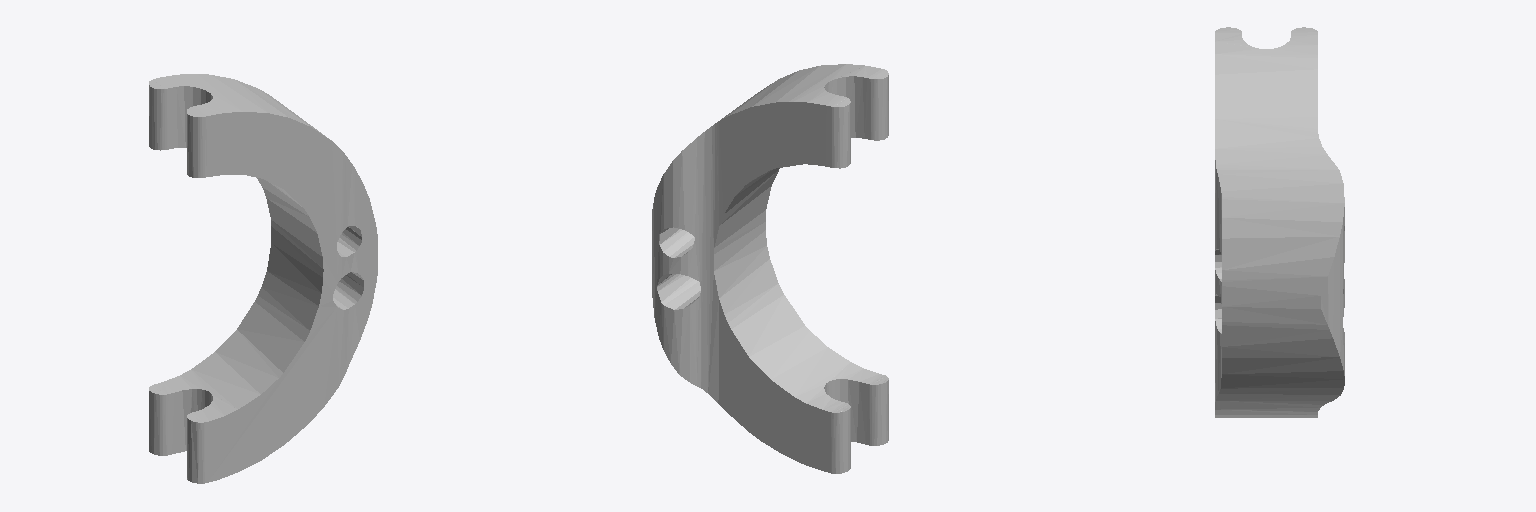
Rendered from seg24.OBJ.
The picture shows the model from 3 angles: view 1: azimuth 30°, elevation 25°; view 2: azimuth 150°, elevation 25°; view 3: azimuth 270°, elevation 25°; orthographic projection.
Visible parts, largest first — view 1: /ambf/env/seg24_seg24; view 2: /ambf/env/seg24_seg24; view 3: /ambf/env/seg24_seg24.
Boxes of the visible parts, x1,y1,x2,y2 form: /ambf/env/seg24_seg24: [149, 74, 377, 483]; /ambf/env/seg24_seg24: [652, 64, 888, 473]; /ambf/env/seg24_seg24: [1215, 27, 1344, 417].
Bounding box in the file's own units: 0.0032 × 0.006 × 0.0019.